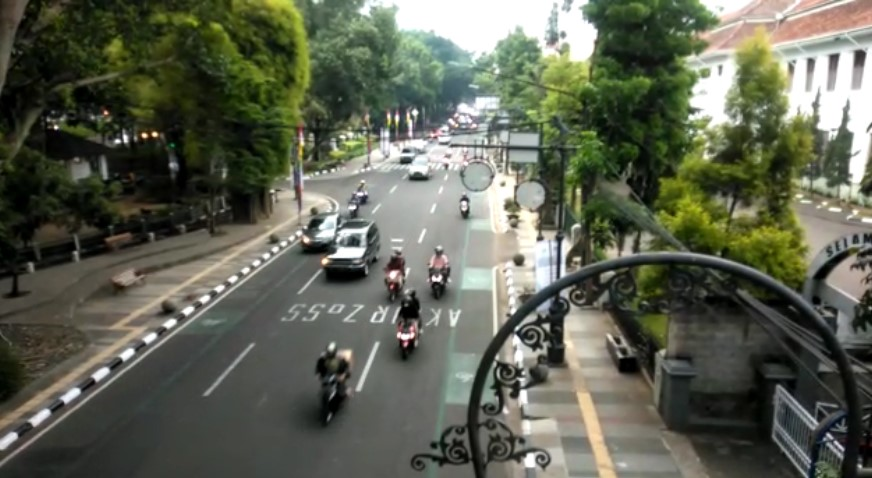mobil: (321, 222, 380, 281), (297, 207, 339, 252)
motor: (305, 340, 356, 421), (395, 294, 424, 354), (424, 243, 455, 291), (384, 250, 410, 299), (343, 192, 365, 217), (455, 194, 472, 221)
